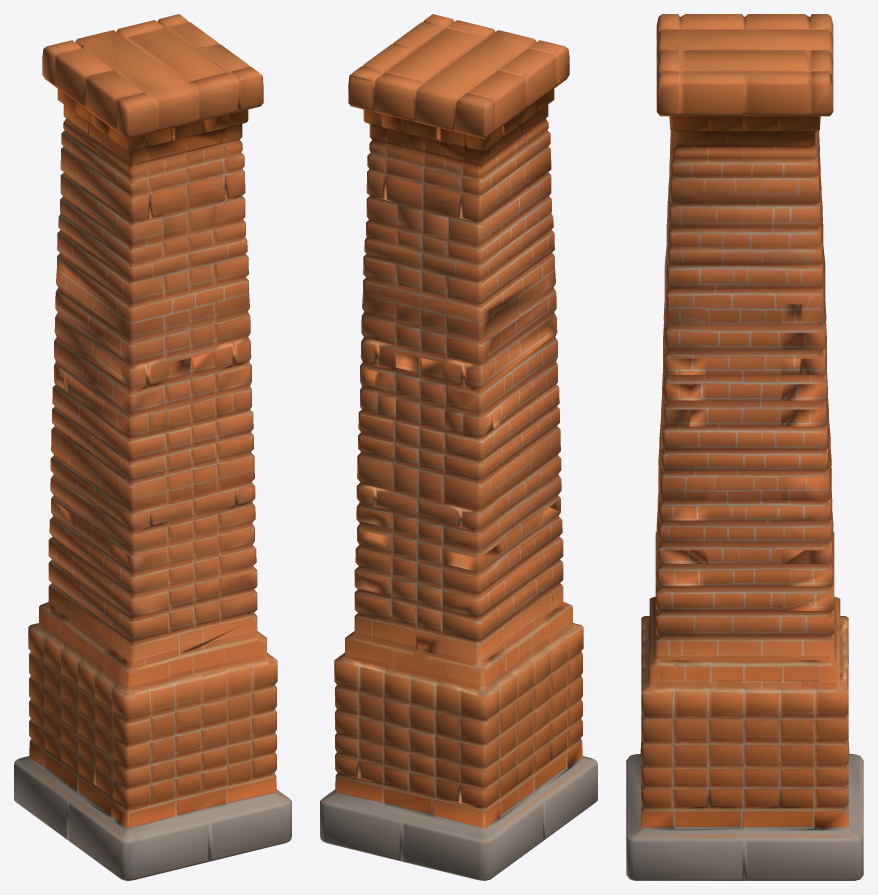
The model's file is a_brick_chimney_47c9b7a0_v3.glb.
The picture shows the model from 3 angles, left to right: view 1: azimuth 30°, elevation 25°; view 2: azimuth 150°, elevation 25°; view 3: azimuth 270°, elevation 25°; orthographic projection. The views are drawn at different scales.
Parts seen in each view (by area): view 1: material; view 2: material; view 3: material.
Part boxes in pixels (x1=…): material: x1=14, y1=14, x2=291, y2=880; material: x1=320, y1=14, x2=597, y2=880; material: x1=626, y1=14, x2=863, y2=880.
Bounding box in the file's own units: 0.4472 × 1.9 × 0.5175.
1 material, 1 textured.
